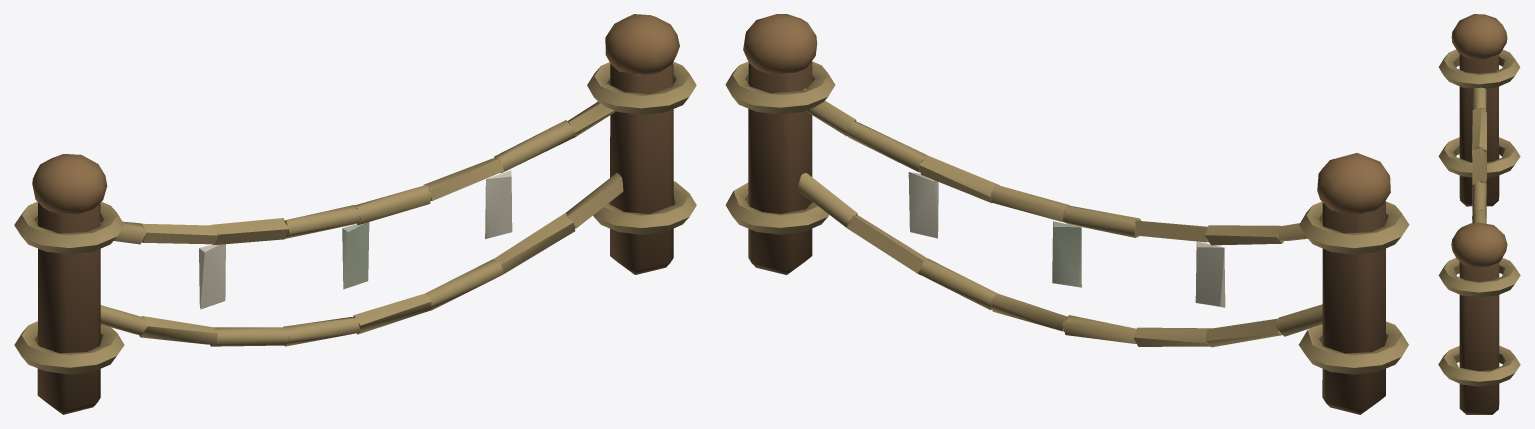
Rendered from rope_fence_a_lod1.glb.
3 renders of one model, left to right at view 1: azimuth 30°, elevation 25°; view 2: azimuth 150°, elevation 25°; view 3: azimuth 270°, elevation 25°, orthographic. The views are drawn at different scales.
Parts seen in each view (by area): view 1: Surface.001; view 2: Surface.001; view 3: Surface.001.
Part boxes in pixels (bbox=[...]): Surface.001: bbox=[14, 14, 696, 414]; Surface.001: bbox=[725, 14, 1409, 414]; Surface.001: bbox=[1438, 14, 1520, 414].
Bounding box in the file's own units: 3.5 × 1.24 × 0.5026.
